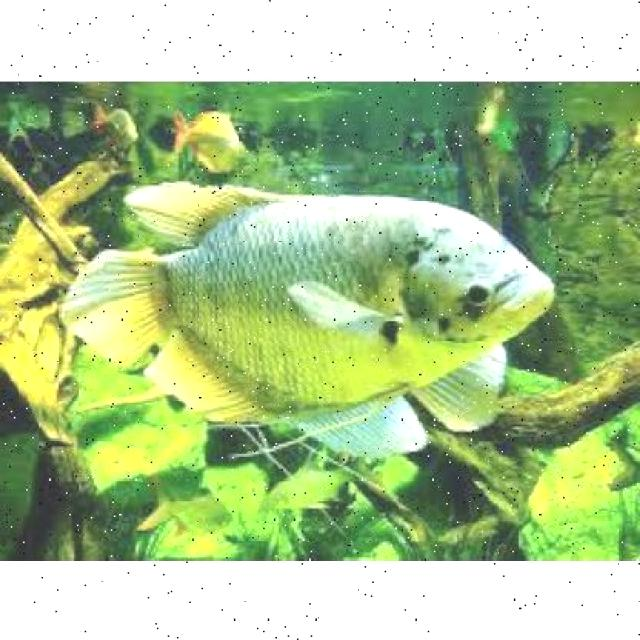gurame: (72, 184, 552, 426)
